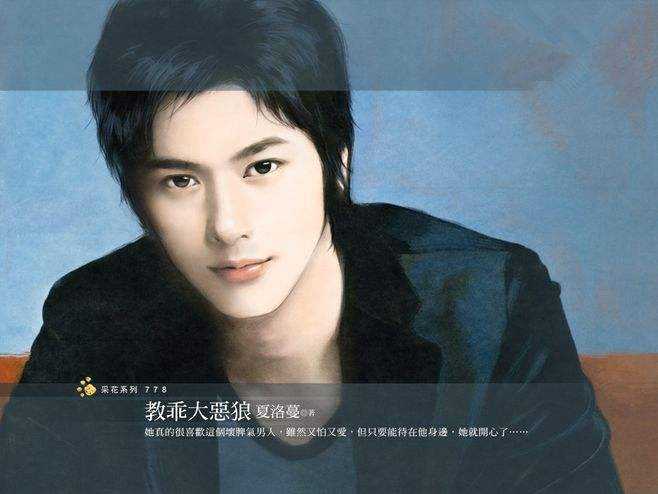person: (70, 22, 391, 335)
